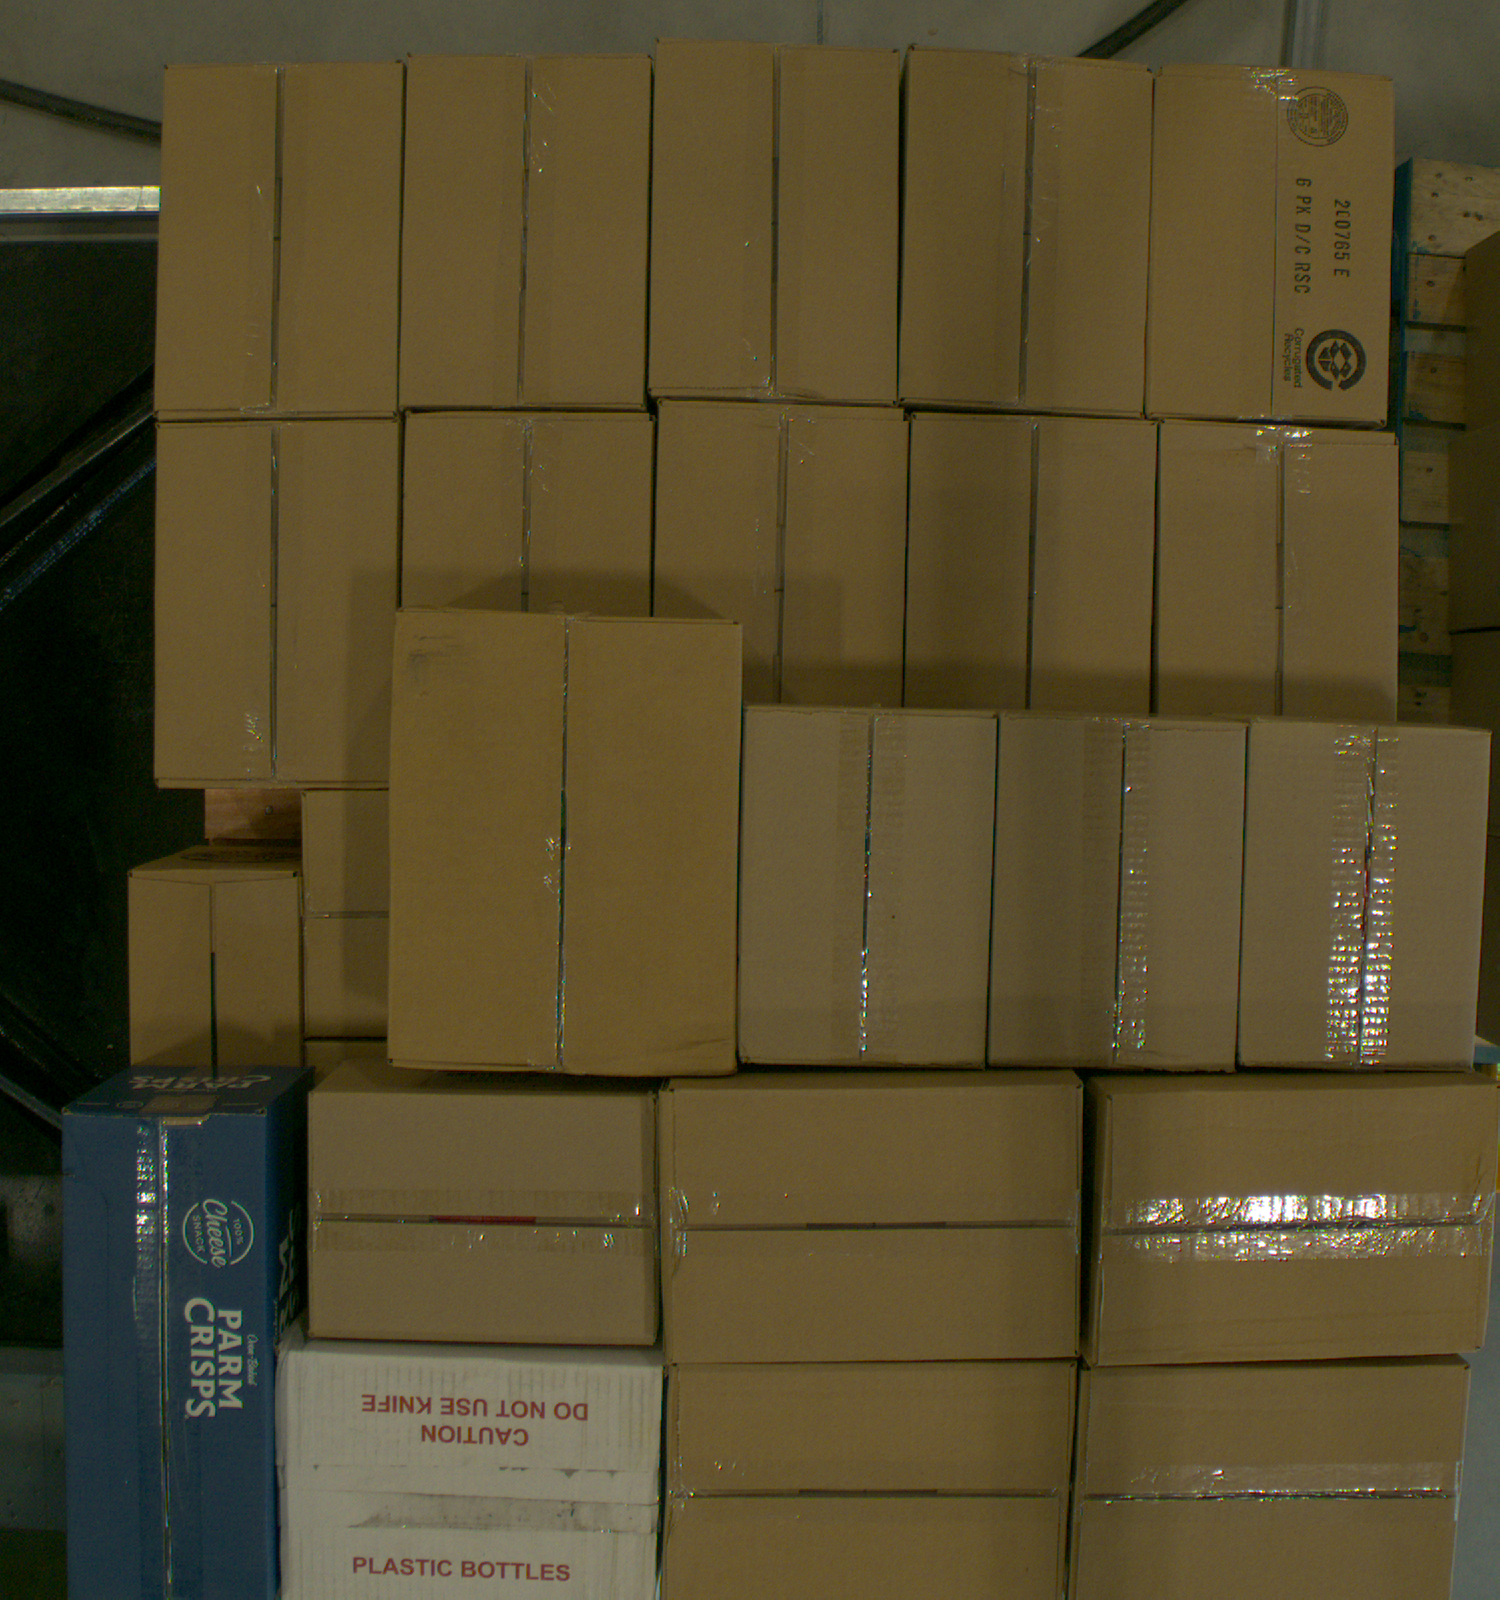box top: (388, 612, 742, 1074), (664, 1078, 1088, 1355), (1094, 1083, 1500, 1366), (62, 1129, 273, 1600), (663, 1363, 1078, 1600), (276, 1350, 663, 1600), (1069, 1365, 1473, 1600), (985, 713, 1246, 1076), (899, 47, 1153, 419), (737, 708, 995, 1070), (650, 38, 899, 403), (154, 59, 405, 419), (400, 52, 653, 407), (1148, 63, 1394, 426), (158, 419, 400, 787), (1239, 722, 1492, 1071), (309, 1093, 660, 1343), (656, 400, 908, 708), (905, 413, 1157, 718), (1159, 421, 1398, 723), (402, 412, 654, 617), (130, 873, 302, 1081), (302, 792, 389, 1038)
